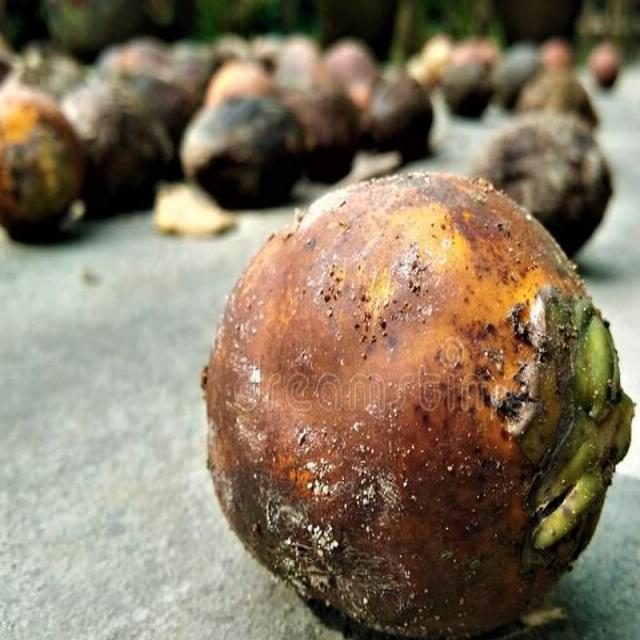damaged: (201, 173, 634, 639)
